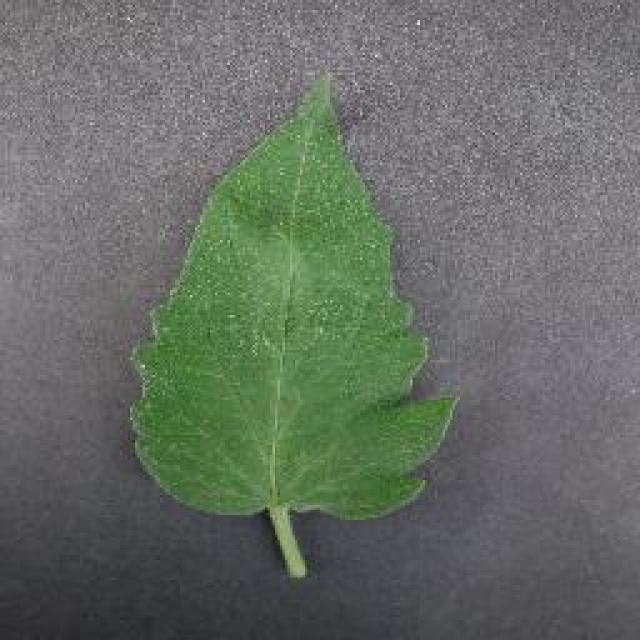Tomato___healthy: (124, 63, 462, 590)
